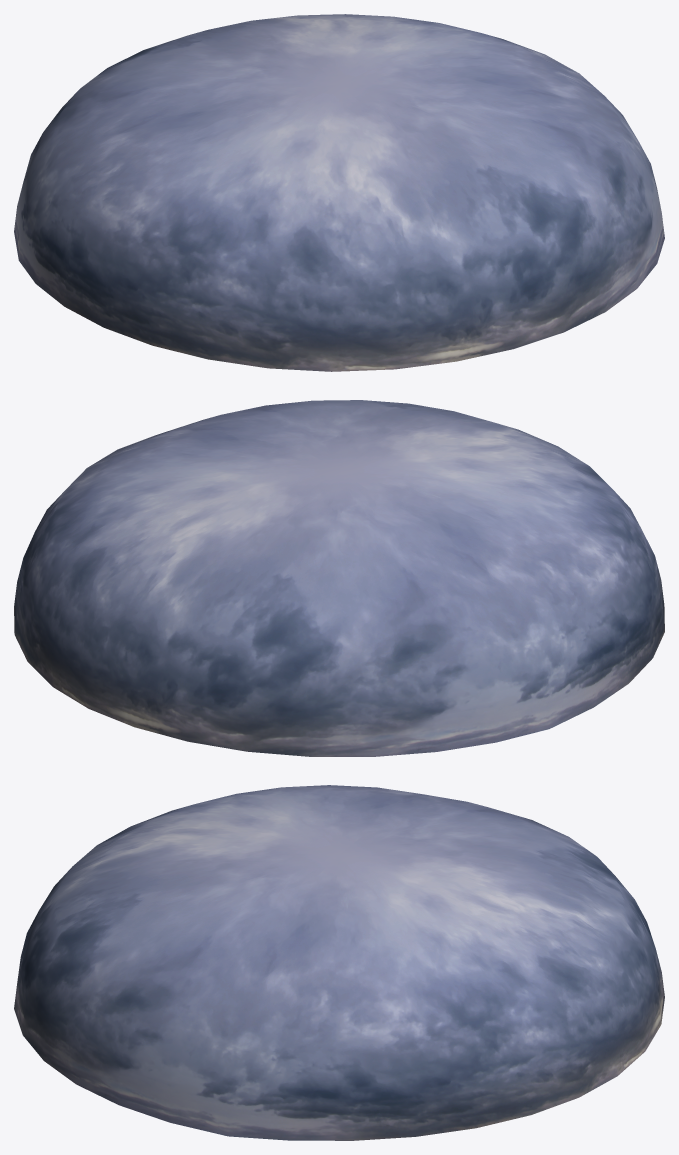
File: stage_sd05b.glb
3 views of the same model, one above another, from view 1: azimuth 30°, elevation 25°; view 2: azimuth 150°, elevation 25°; view 3: azimuth 270°, elevation 25° (orthographic).
Parts seen in each view (by area): view 1: sd05bbac04; view 2: sd05bbac04; view 3: sd05bbac04.
Boxes of the visible parts, x1,y1,x2,y2 form: sd05bbac04: (14, 14, 664, 371); sd05bbac04: (14, 400, 664, 756); sd05bbac04: (14, 785, 664, 1140).
Bounding box in the file's own units: 13970 × 3875 × 13968.
Materials: 36 (36 with a texture image).
